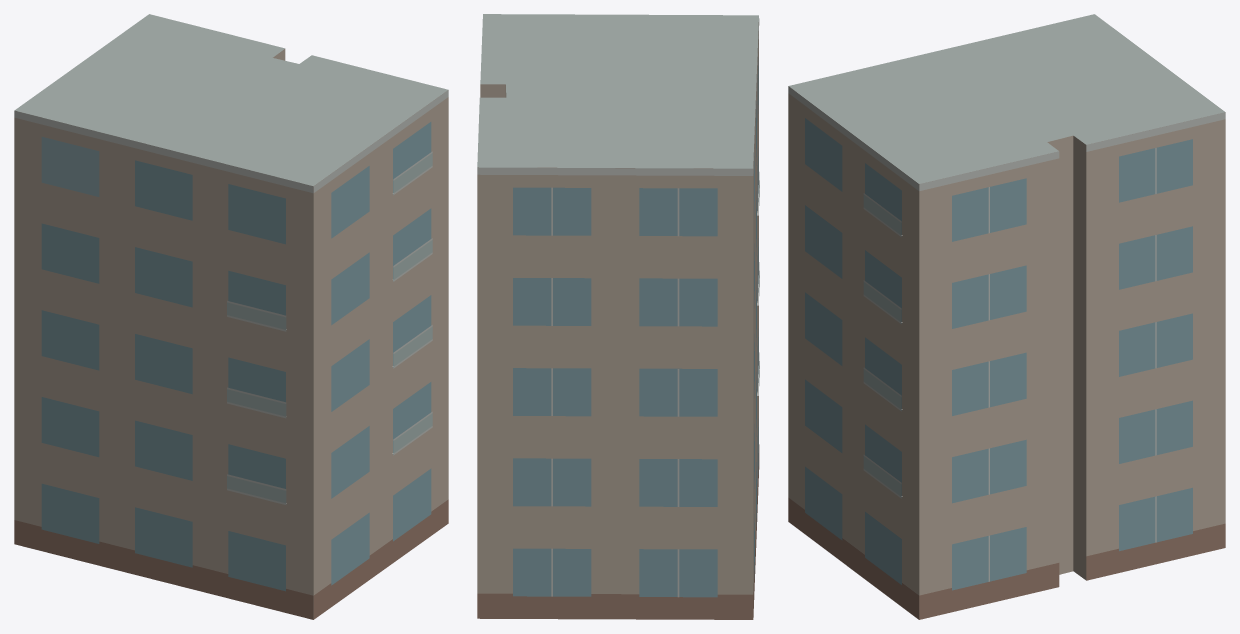
Rendered from survey-upis-32695308.glb.
The picture shows the model from 3 angles, left to right: view 1: azimuth 30°, elevation 25°; view 2: azimuth 150°, elevation 25°; view 3: azimuth 270°, elevation 25°; orthographic projection. The views are drawn at different scales.
Parts seen in each view (by area): view 1: survey-upis-32695308.tmp; view 2: survey-upis-32695308.tmp; view 3: survey-upis-32695308.tmp.
Boxes of the visible parts, x1=… form: survey-upis-32695308.tmp: x1=14, y1=14, x2=448, y2=619; survey-upis-32695308.tmp: x1=477, y1=14, x2=759, y2=619; survey-upis-32695308.tmp: x1=788, y1=14, x2=1225, y2=619.
Bounding box in the file's own units: 12.53 × 14.95 × 13.6.
